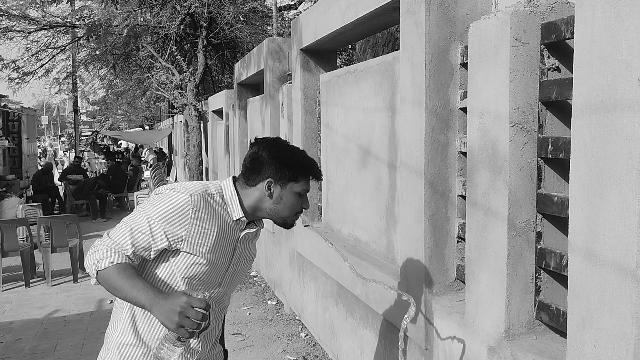spit: (244, 145, 436, 360)
